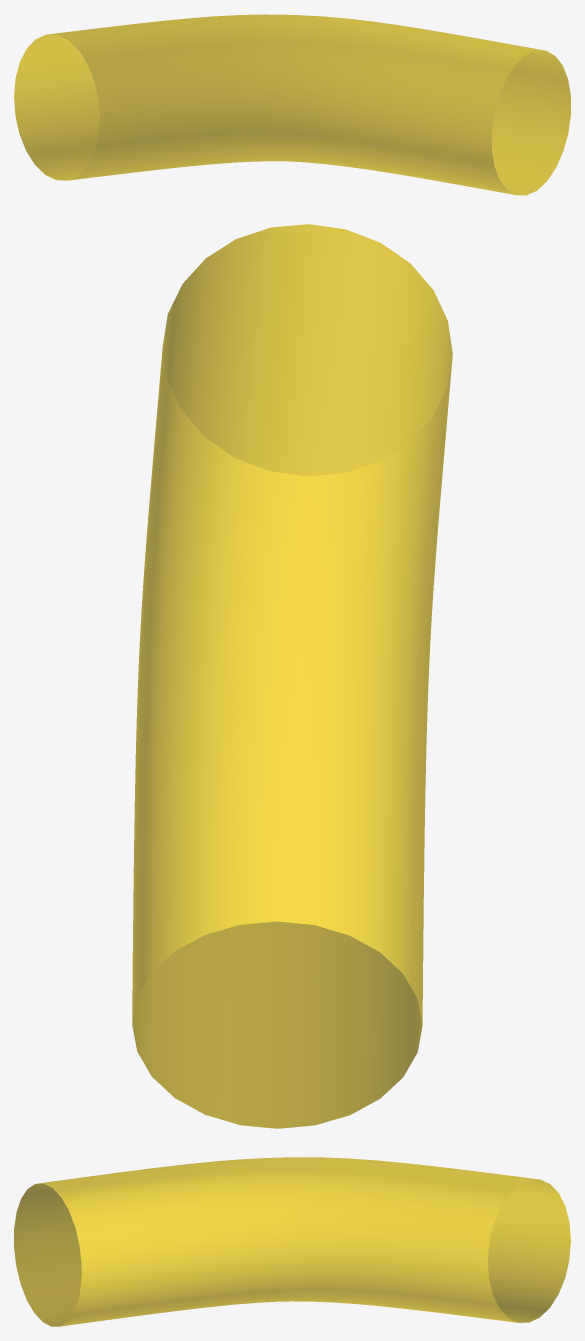
File: Event_27938768_track_60.fbx
3 renders of one model, top to bottom at view 1: azimuth 30°, elevation 25°; view 2: azimuth 150°, elevation 25°; view 3: azimuth 270°, elevation 25°, orthographic. The views are drawn at different scales.
Visible parts, largest first — view 1: Model; view 2: Model; view 3: Model.
Boxes of the visible parts, x1=… form: Model: x1=14, y1=14, x2=570, y2=195; Model: x1=132, y1=224, x2=452, y2=1128; Model: x1=14, y1=1157, x2=570, y2=1326.
Size of the model in its own units: 0.1071 by 0.071 by 0.1534.
